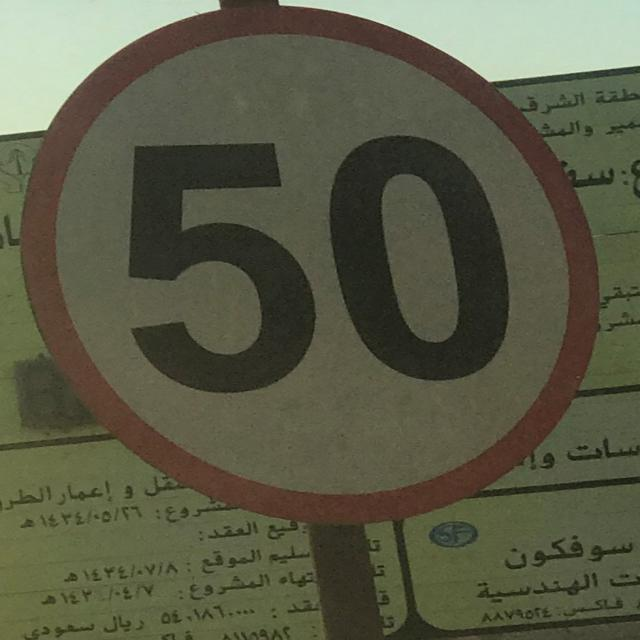Limite-50: (18, 7, 602, 528)
